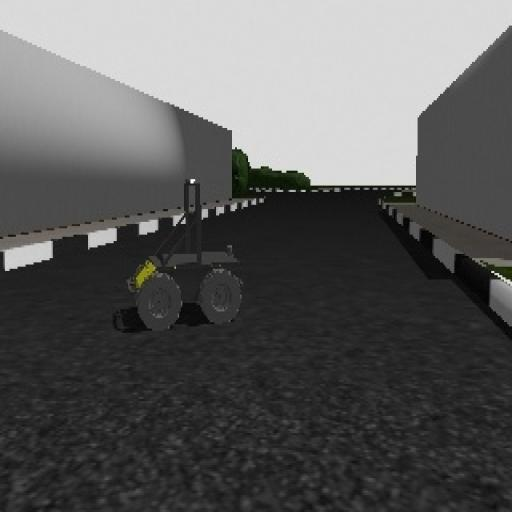huskya200: (115, 171, 248, 332)
